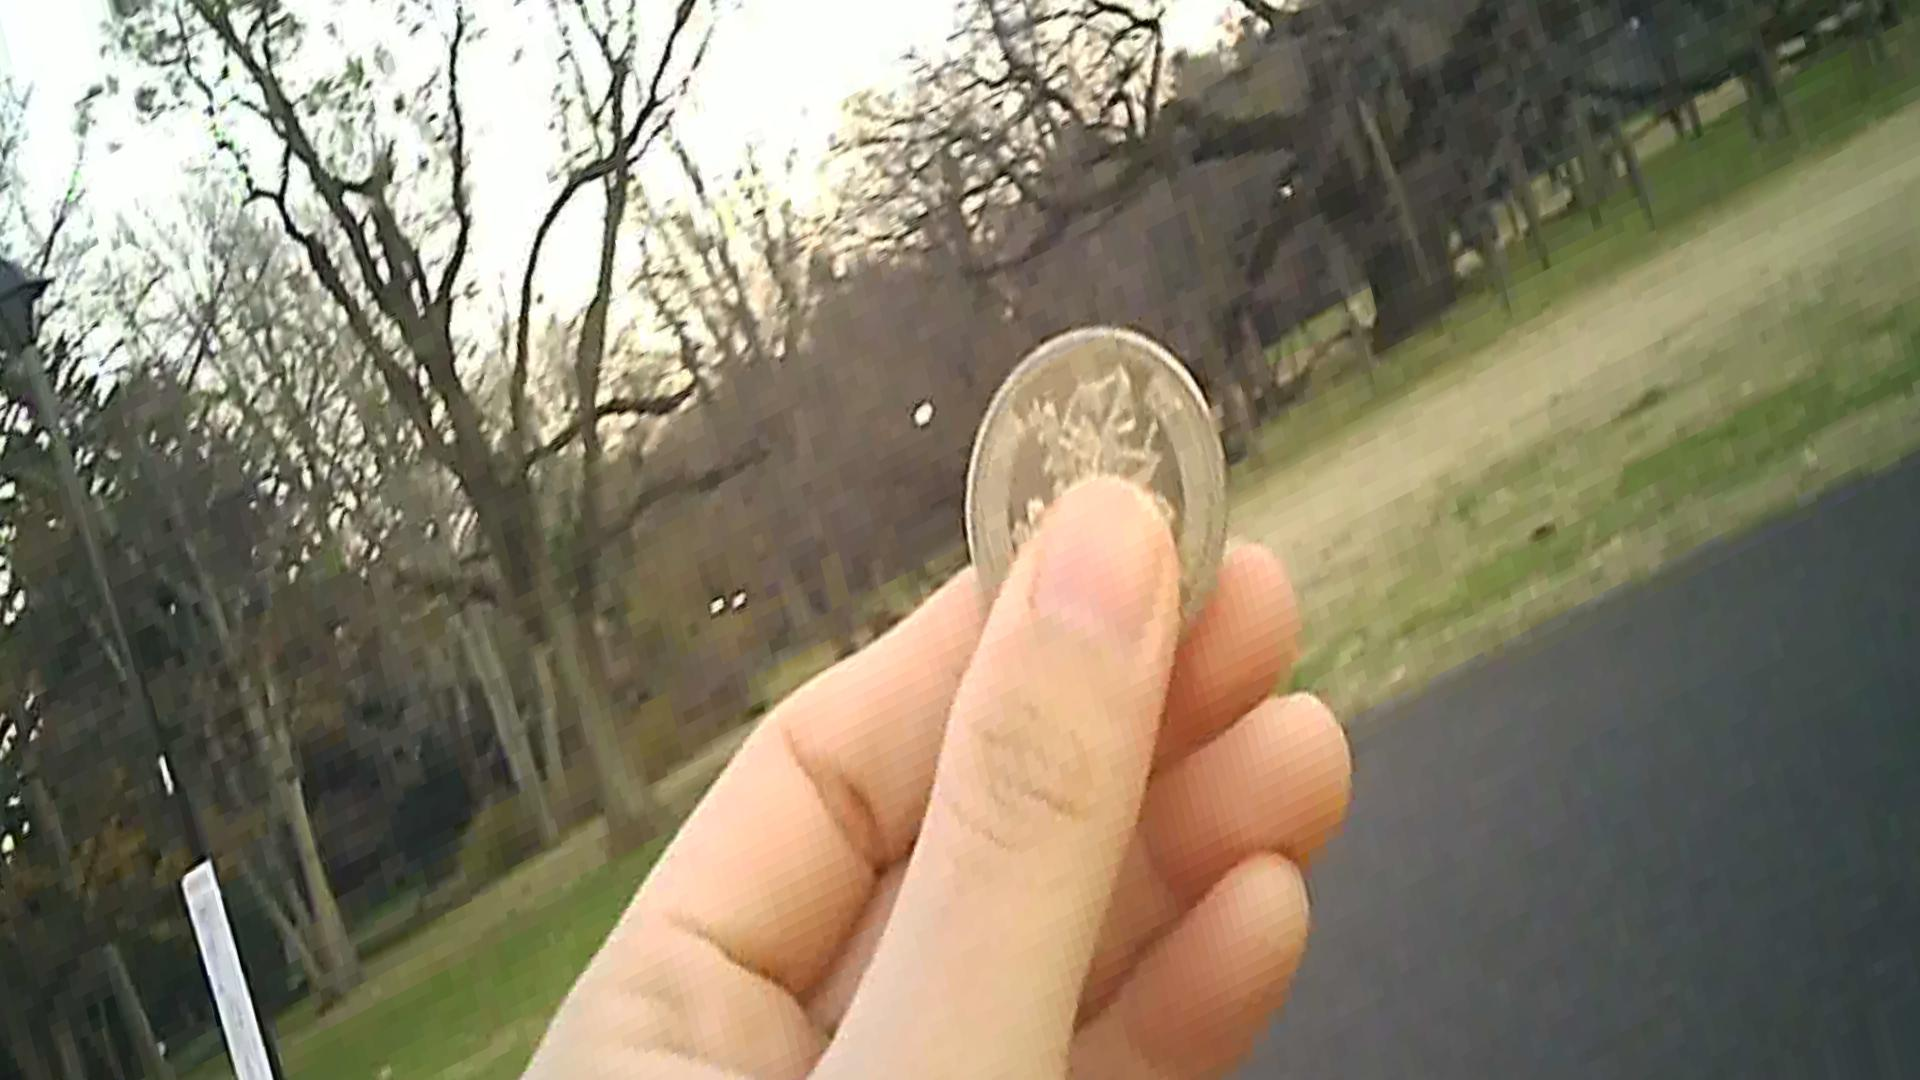500 Yen: (971, 320, 1236, 669)
